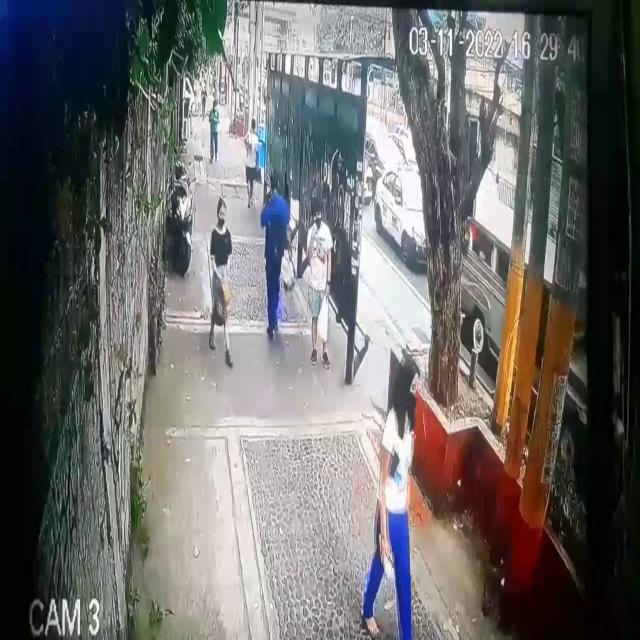human: (307, 200, 332, 368), (209, 198, 233, 369)
trash: (212, 278, 226, 328), (318, 287, 330, 344)
